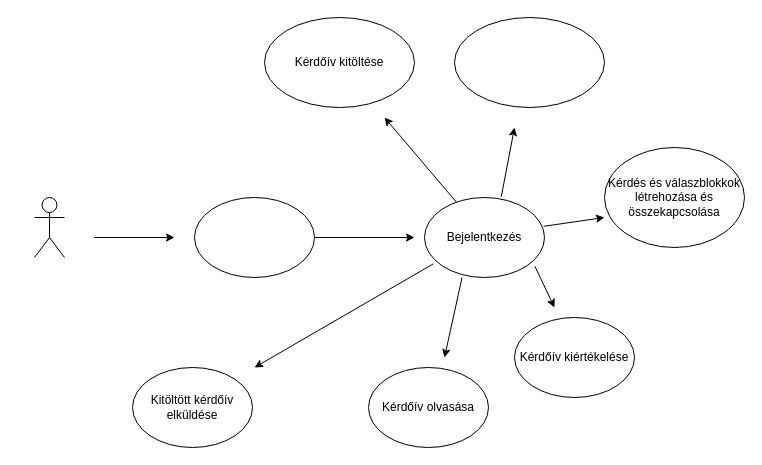
Some shapes in this 762 by 465 pixel diagram are drawn without their labels. Here are the shapes that lost their labels. From the top down, the centre of each, then its label:
(529,62): Kérdőív létrehozása (Kérdések, válaszok megadása)
(49,227): Felhasználó
(254,237): Regisztráció
